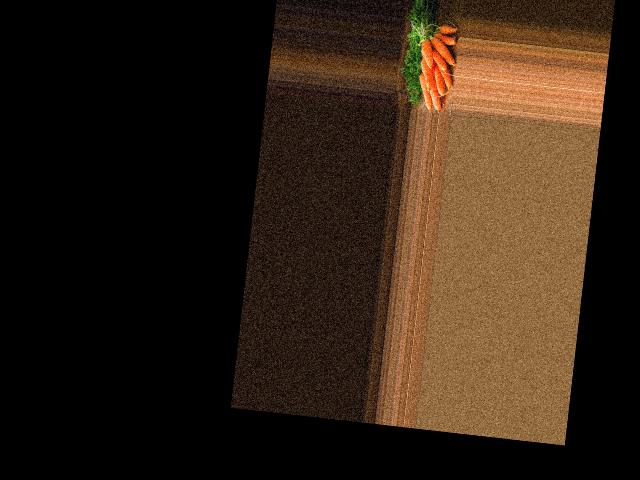carrot: (425, 33, 458, 66)
